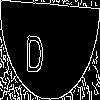D: (25, 25, 45, 74)
